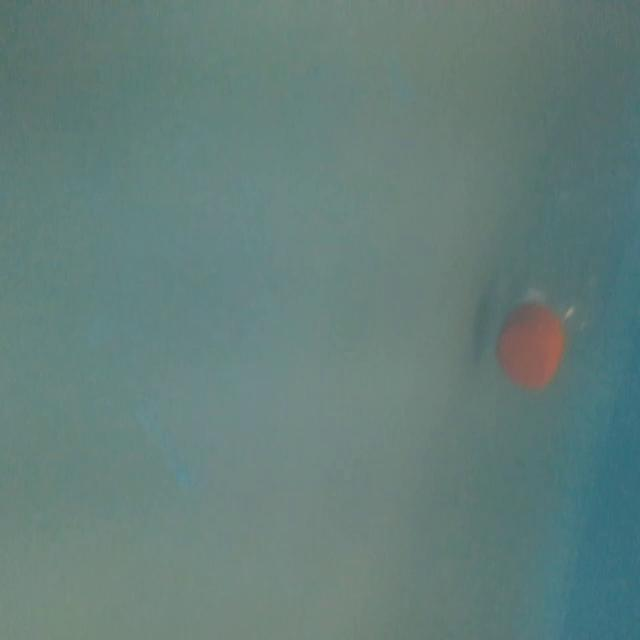plastic bottle: (492, 130, 618, 394)
